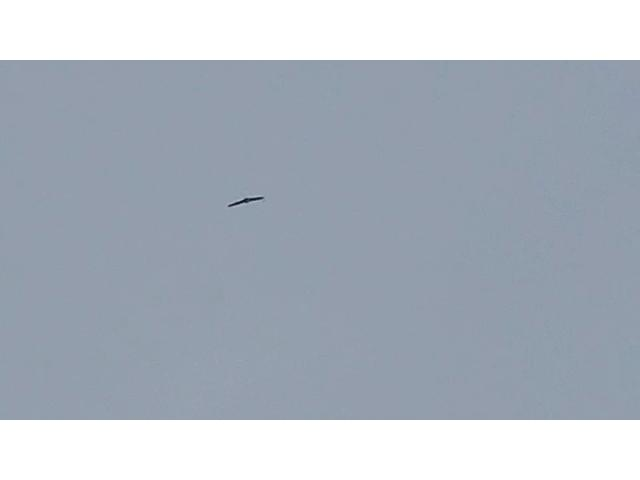Anti-Drone: (228, 196, 266, 208)
